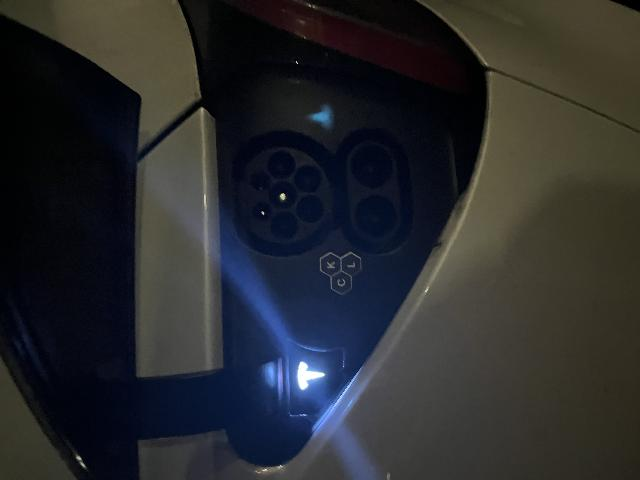inlet: (235, 243, 333, 331)
inlet-above-left: (258, 251, 279, 272)
inlet-above-right: (291, 250, 310, 268)
inlet-below-left: (257, 296, 285, 324)
inlet-below-right: (287, 294, 314, 321)
inlet-circle: (271, 269, 299, 297)
inlet-circle-left: (241, 270, 269, 297)
inlet-circle-right: (301, 267, 330, 296)
inlet-minus: (292, 350, 335, 393)
inlet-plus: (242, 356, 285, 396)
